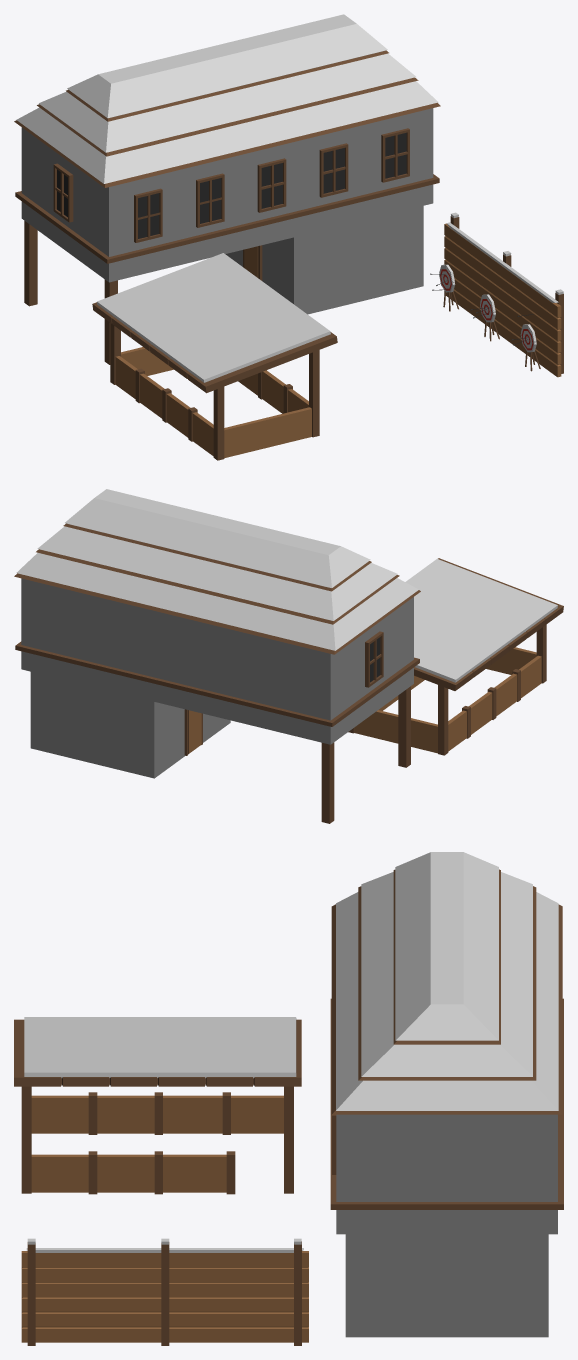
Rendered from ArcheryRange_snow_mat.fbx.
The picture shows the model from 3 angles, top to bottom: view 1: azimuth 30°, elevation 25°; view 2: azimuth 150°, elevation 25°; view 3: azimuth 270°, elevation 25°; orthographic projection. The views are drawn at different scales.
Parts seen in each view (by area): view 1: ArcheryRange_snow_mat; view 2: ArcheryRange_snow_mat; view 3: ArcheryRange_snow_mat.
Boxes of the visible parts, box(x1,y1,x2,y2) form: ArcheryRange_snow_mat: box(14, 14, 563, 460); ArcheryRange_snow_mat: box(14, 489, 563, 823); ArcheryRange_snow_mat: box(14, 852, 563, 1345).
Bounding box in the file's own units: 701 × 453 × 723.
